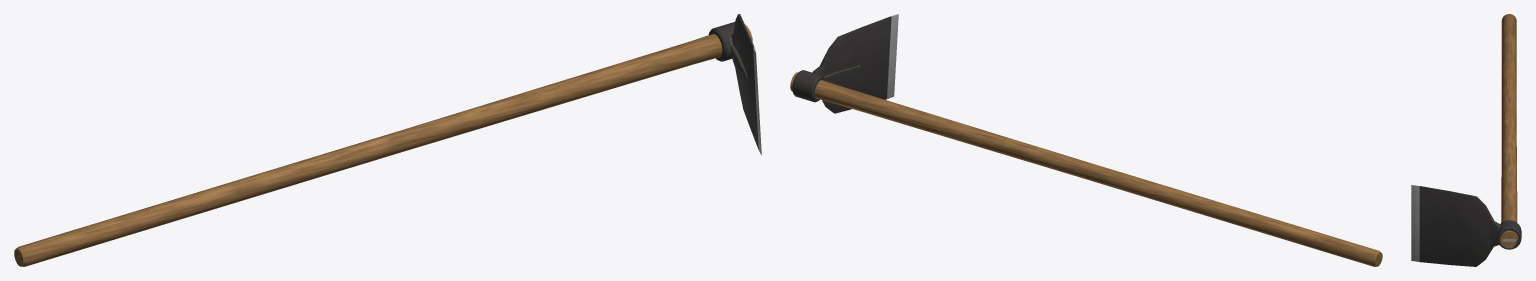
Rendered from enxada.glb.
The picture shows the model from 3 angles, left to right: view 1: azimuth 30°, elevation 25°; view 2: azimuth 150°, elevation 25°; view 3: azimuth 270°, elevation 25°; orthographic projection. The views are drawn at different scales.
Parts seen in each view (by area): view 1: cabo, cabeca; view 2: cabo, cabeca; view 3: cabeca, cabo.
Part boxes in pixels (x1=…): cabo: x1=14, y1=25, x2=752, y2=266; cabeca: x1=708, y1=14, x2=761, y2=155; cabo: x1=790, y1=72, x2=1382, y2=266; cabeca: x1=792, y1=14, x2=898, y2=113; cabeca: x1=1411, y1=185, x2=1521, y2=266; cabo: x1=1500, y1=14, x2=1518, y2=248.
Bounding box in the file's own units: 1.36 × 0.1861 × 0.251.
Materials: 1 (1 with a texture image).
